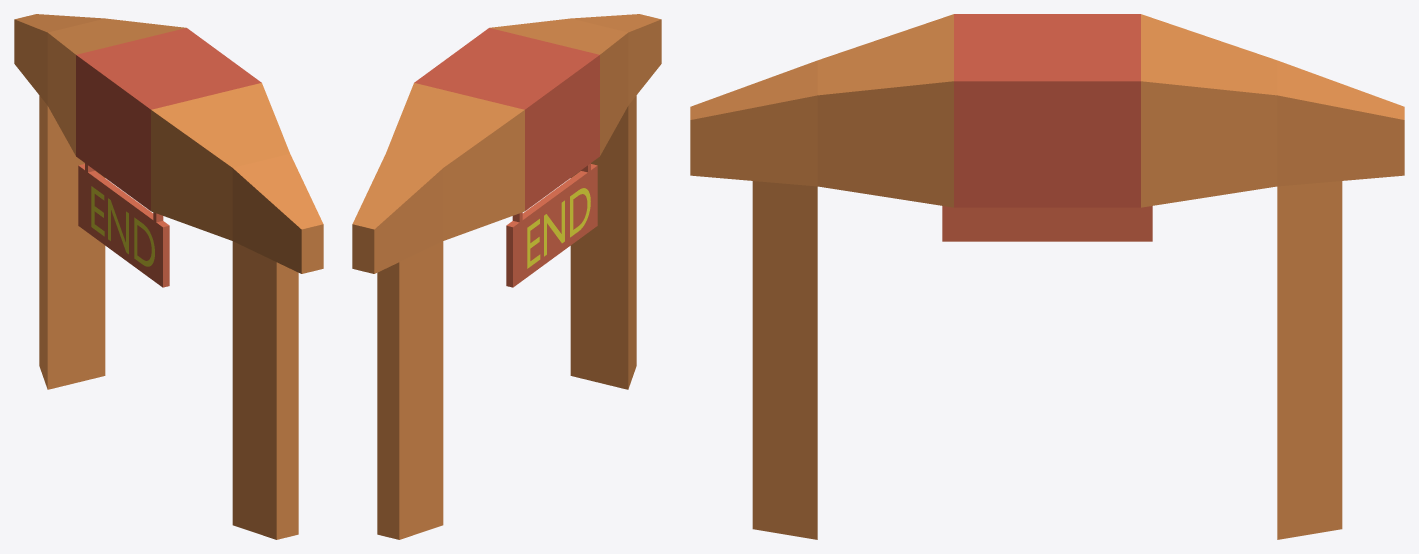
Rendered from Finish Line.fbx.
3 renders of one model, left to right at view 1: azimuth 30°, elevation 25°; view 2: azimuth 150°, elevation 25°; view 3: azimuth 270°, elevation 25°, orthographic. The views are drawn at different scales.
Visible parts, largest first — view 1: Cube, Cube.001, Plane, Text; view 2: Cube, Cube.001, Plane, Text; view 3: Cube, Cube.001, Plane.
Boxes of the visible parts, box(x1,y1,x2,y2) form: Cube: box(14, 14, 323, 539); Cube.001: box(76, 28, 261, 210); Plane: box(78, 163, 169, 287); Text: box(91, 186, 154, 266); Cube: box(352, 14, 661, 539); Cube.001: box(414, 28, 599, 210); Plane: box(506, 163, 597, 287); Text: box(527, 188, 590, 268); Cube: box(690, 14, 1404, 539); Cube.001: box(954, 14, 1140, 207); Plane: box(942, 206, 1152, 241).
Bounding box in the file's own units: 384 × 1265 × 1724.
